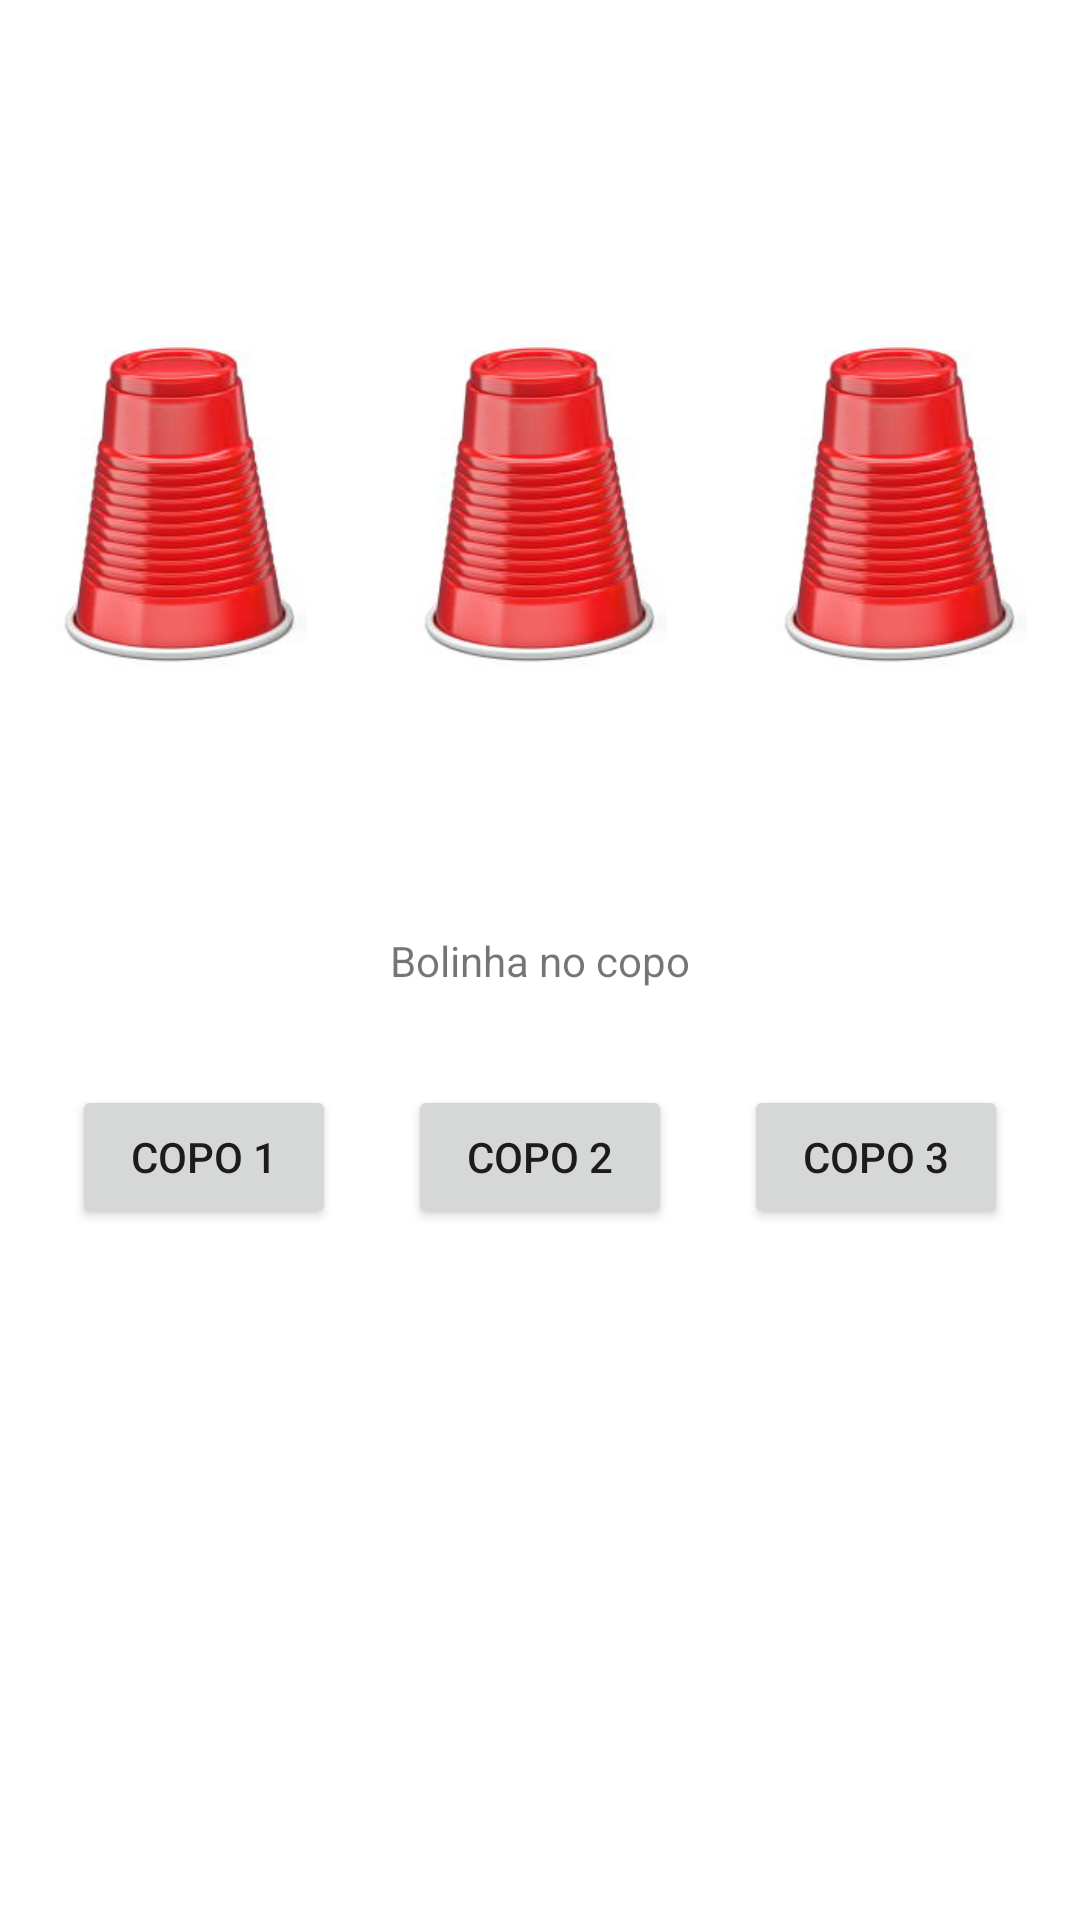

Screen size 1080x1920. Icon name, then its center in pixels as (x=x, y=y):
copo: (x=180, y=504), (x=540, y=504), (x=900, y=504)
